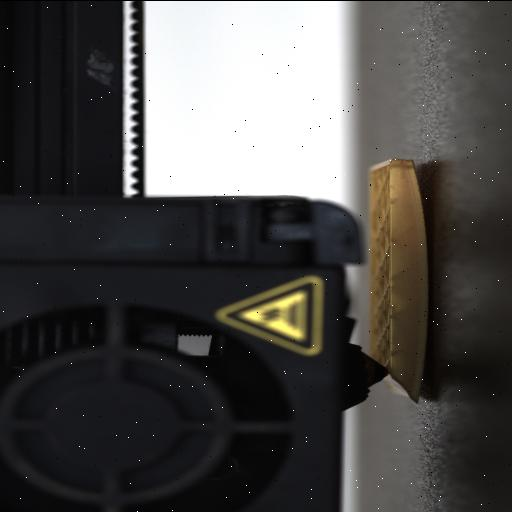warp: (396, 148, 430, 218), (403, 365, 433, 412)
